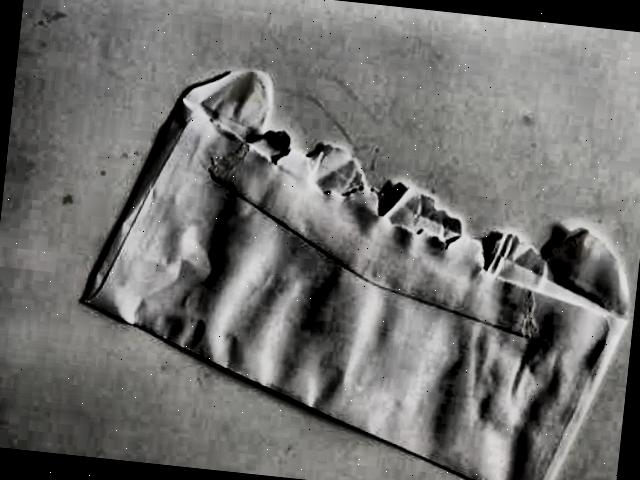Paper: (52, 6, 640, 480)
